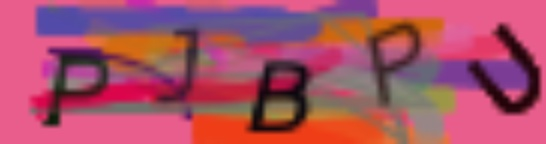B: (243, 53, 320, 137)
J: (144, 26, 202, 107)
P: (39, 52, 112, 131), (361, 20, 424, 110)
U: (465, 17, 545, 122)
